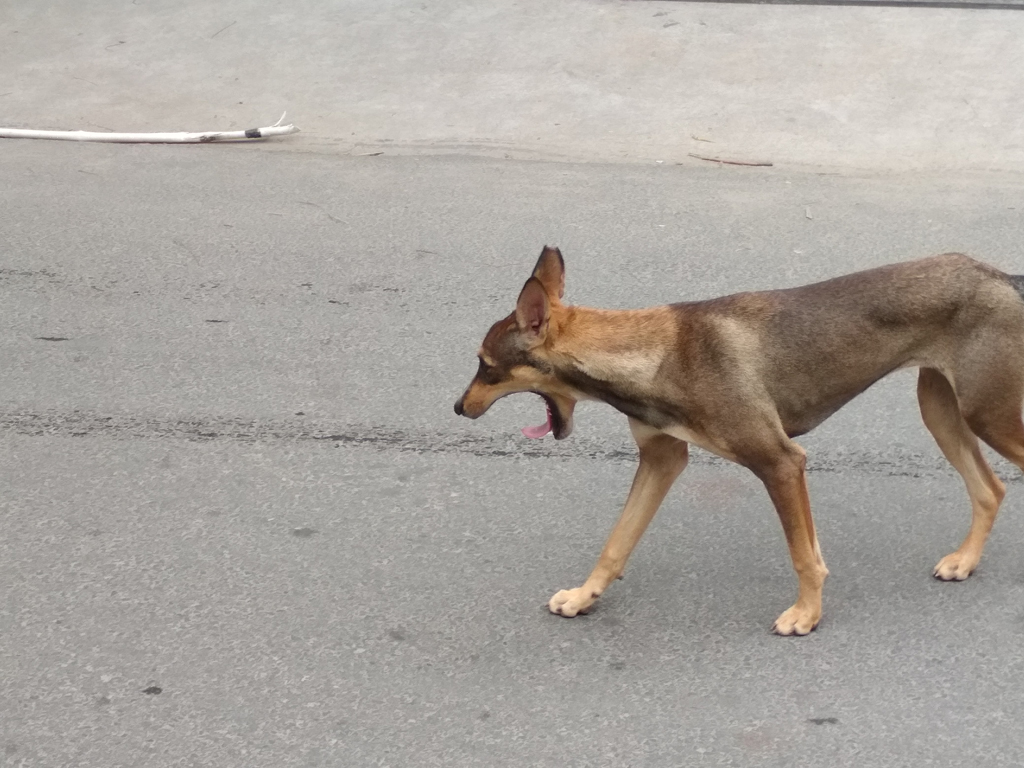dog: (454, 245, 1024, 637)
